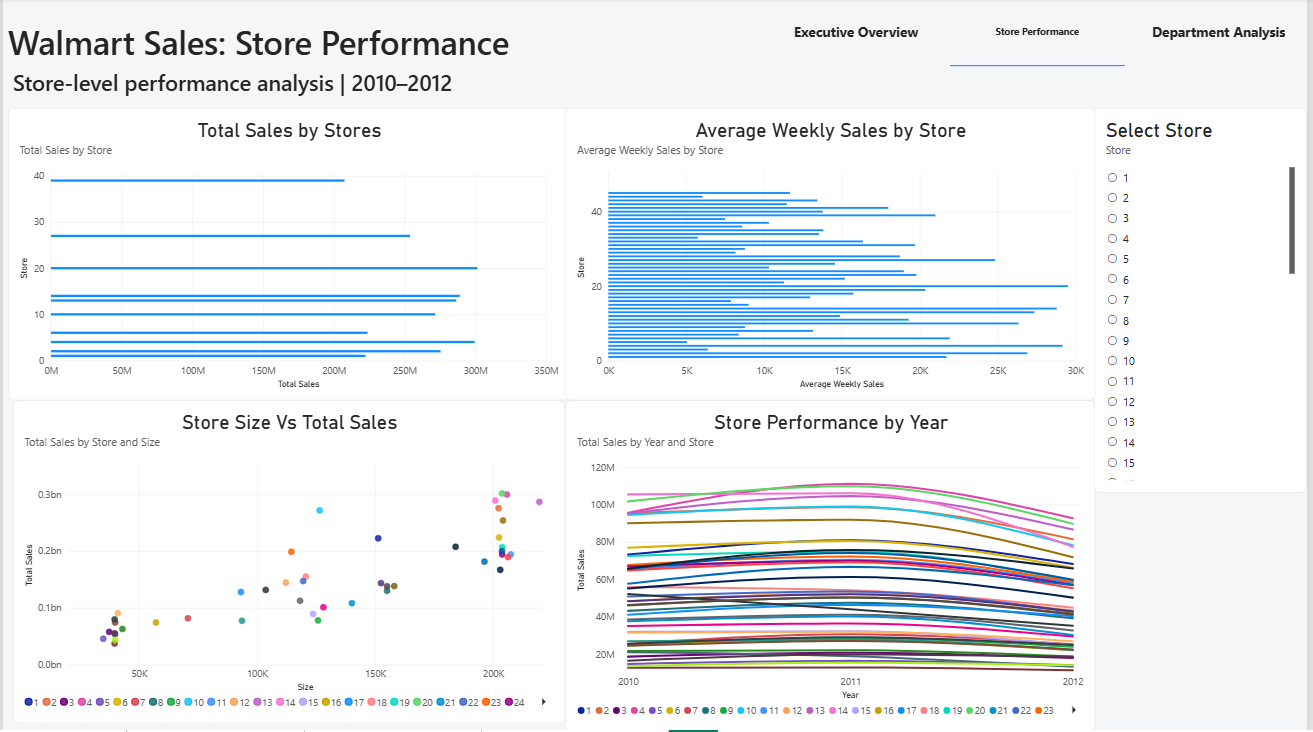

The dashboard page shown, as its layout file describes it:
{"tool":"powerbi","page":{"name":"Store Performance","canvas":[1920,1080],"ordinal":1},"visuals":[{"type":"clusteredBarChart","title":"Total Sales by Stores","fields":{"Category":["stores.Store"],"Y":["train.Total Sales","select"]},"box":[8.2,162.6,827.4,430.2],"z":0},{"type":"scatterChart","title":"Store Size Vs Total Sales","fields":{"Series":["stores.Store"],"X":["stores.Size"],"Y":["train.Total Sales"]},"box":[14.4,592.8,813,475.5],"z":1000},{"type":"lineChart","title":"Store Performance by Year","fields":{"Category":["train.Year"],"Series":["train.Store"],"Y":["train.Total Sales"]},"box":[827.4,592.8,780.1,487.8],"z":2000},{"type":"listSlicer","title":"Select Store","fields":{"Values":["train.Store"]},"box":[1607.5,162,312.9,566.2],"z":3000},{"type":"clusteredBarChart","title":"Average Weekly Sales by Store","fields":{"Category":["stores.Store"],"Y":["train.Average Weekly Sales"]},"box":[827.4,162.6,780.1,430.2],"z":4000},{"type":"textbox","box":[7.4,12.9,896.3,88.3],"z":4001},{"type":"pageNavigator","box":[1126.4,0,793.3,101.2],"z":4002},{"type":"textbox","box":[14.7,84.7,982.8,77.3],"z":4003}]}

Visuals, with their boxes in screenshot pixels (x1, y1, x2, y2), scaled from the page's 1920x1080 canvas onto the 1313x732 screenshot:
"Total Sales by Stores" clusteredBarChart: locate(6, 110, 571, 402)
"Store Size Vs Total Sales" scatterChart: locate(10, 402, 566, 724)
"Store Performance by Year" lineChart: locate(566, 402, 1099, 731)
"Select Store" listSlicer: locate(1099, 110, 1312, 494)
"Average Weekly Sales by Store" clusteredBarChart: locate(566, 110, 1099, 402)
textbox: locate(5, 9, 618, 69)
pageNavigator: locate(770, 0, 1312, 69)
textbox: locate(10, 57, 682, 110)
